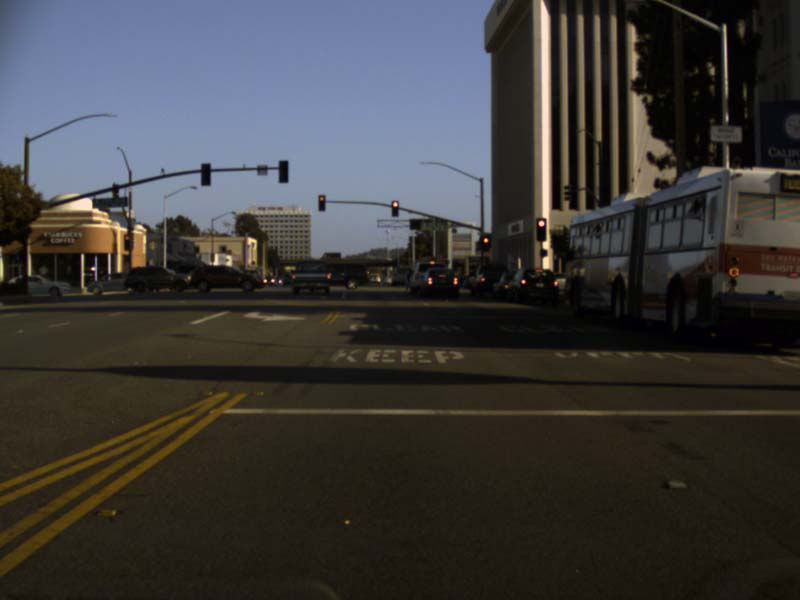Red: (536, 217, 545, 240), (480, 233, 491, 251), (123, 233, 132, 250), (317, 195, 325, 211), (391, 199, 398, 216)
